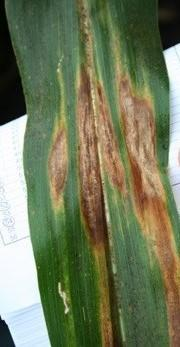Corn_Blight: (74, 21, 180, 347), (38, 67, 74, 234), (47, 268, 75, 321)
